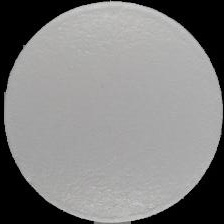50090-1285: (0, 0, 224, 224)
